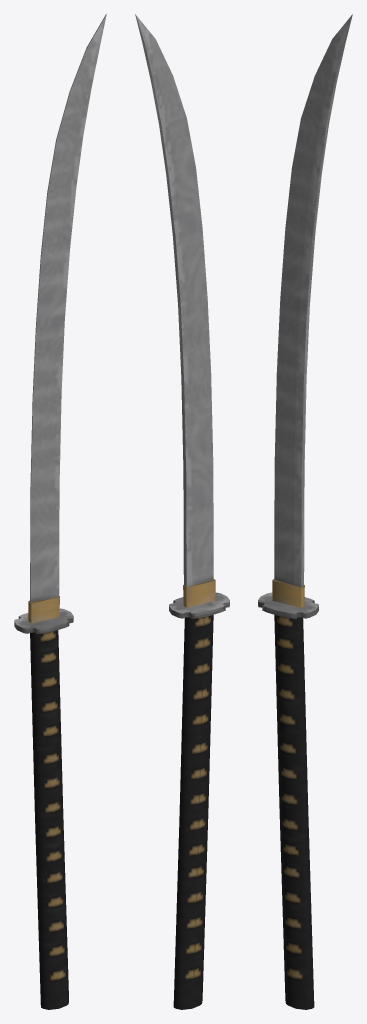
Rendered from nodachi.obj.
3 renders of one model, left to right at view 1: azimuth 30°, elevation 25°; view 2: azimuth 210°, elevation 25°; view 3: azimuth 330°, elevation 25°, orthographic. The views are drawn at different scales.
Parts seen in each view (by area): view 1: Nodachi_blade, Nodachi_grip, Nodachi_guard; view 2: Nodachi_blade, Nodachi_grip, Nodachi_guard; view 3: Nodachi_blade, Nodachi_grip, Nodachi_guard.
Part boxes in pixels (x1,y1,x2,y2): Nodachi_blade: (28,14,106,623); Nodachi_grip: (30,630,68,1009); Nodachi_guard: (14,608,73,633); Nodachi_blade: (135,14,215,607); Nodachi_grip: (173,615,213,1009); Nodachi_guard: (169,592,229,618); Nodachi_blade: (272,14,352,607); Nodachi_grip: (274,615,314,1009); Nodachi_guard: (258,592,318,618).
Size of the model in its own units: 0.1895 by 1.98 by 0.0759.
